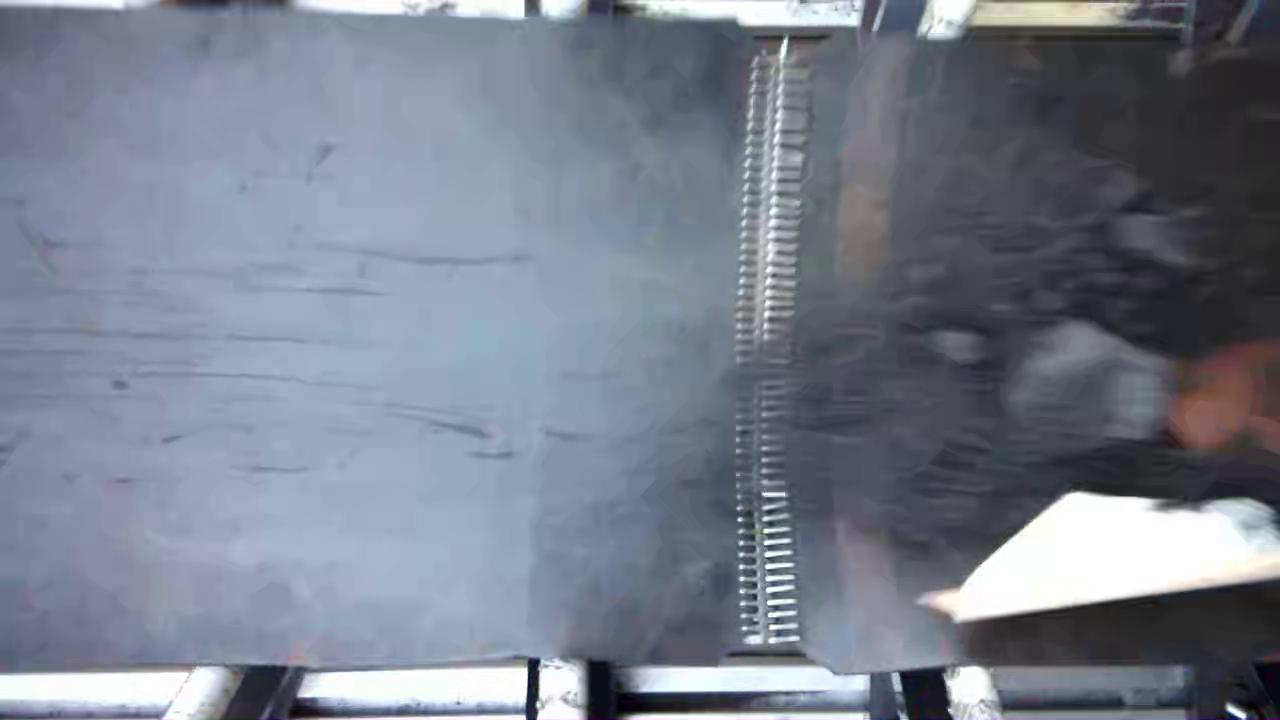conveyor: (9, 37, 1279, 654)
